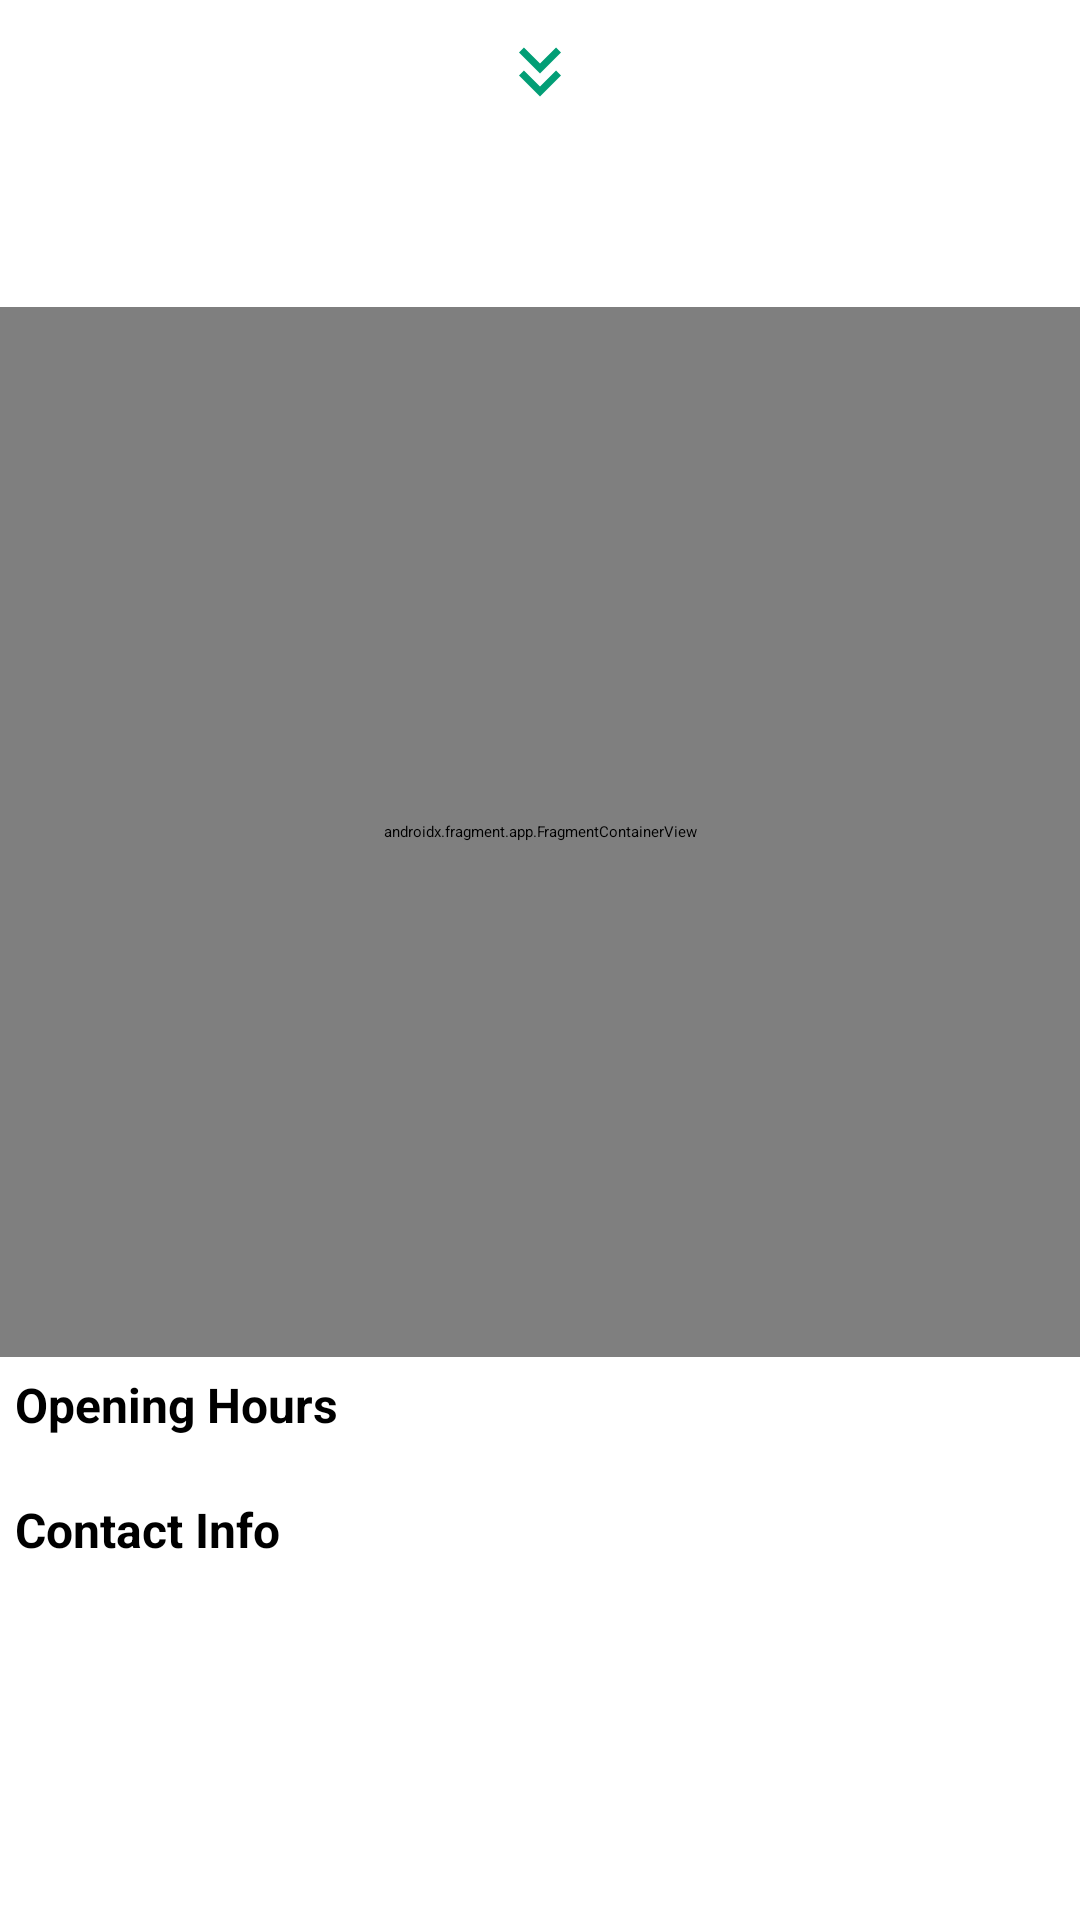

Screen size 1080px x 1920px. Icon name, then its center in pixels as point (x, y):
keyboard double arrow down: point (540, 72)
